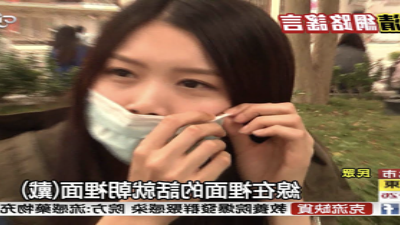mask_weared_incorrect: (80, 47, 230, 169)
